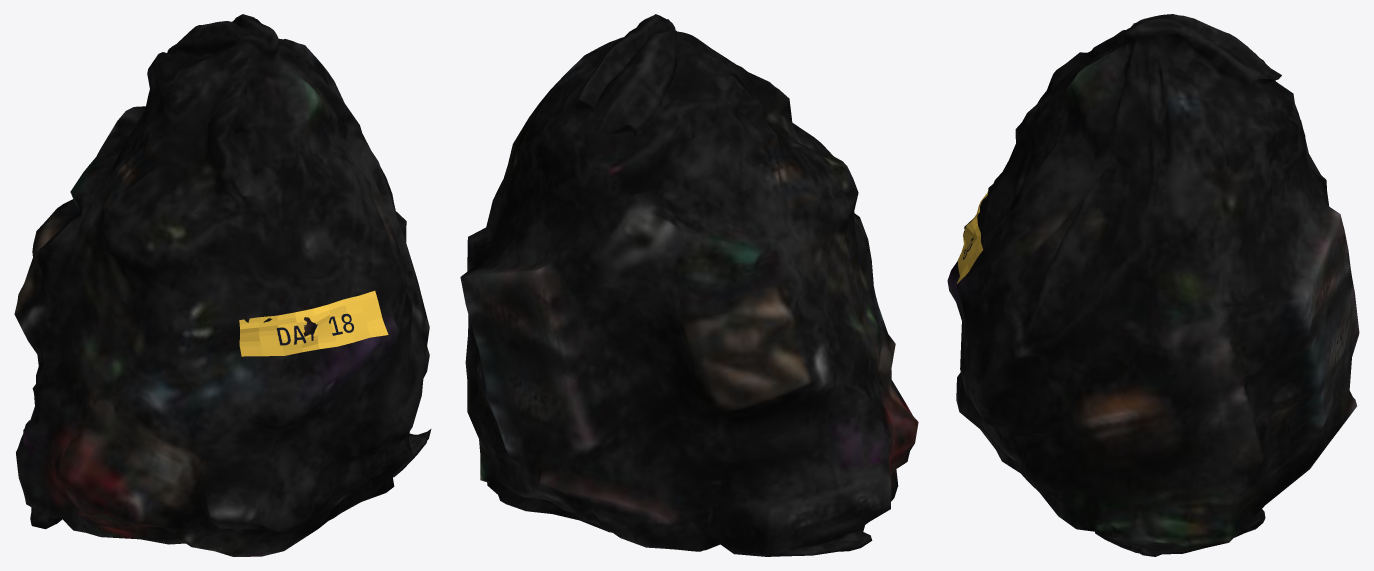
The model's file is nyb_stairs_bagblk.glb.
3 renders of one model, left to right at view 1: azimuth 30°, elevation 25°; view 2: azimuth 150°, elevation 25°; view 3: azimuth 270°, elevation 25°, orthographic. The views are drawn at different scales.
Parts seen in each view (by area): view 1: trashbag, stk_lbl_8eeced4b7e.png; view 2: trashbag; view 3: trashbag, stk_lbl_8eeced4b7e.png.
Part boxes in pixels (x1,y1,x2,y2): trashbag: (14,14,431,556); stk_lbl_8eeced4b7e.png: (239,290,388,356); trashbag: (460,14,918,556); trashbag: (947,14,1359,556); stk_lbl_8eeced4b7e.png: (957,191,988,283).
Bounding box in the file's own units: 0.5281 × 0.575 × 0.4629.
Materials: 2 (2 with a texture image).
